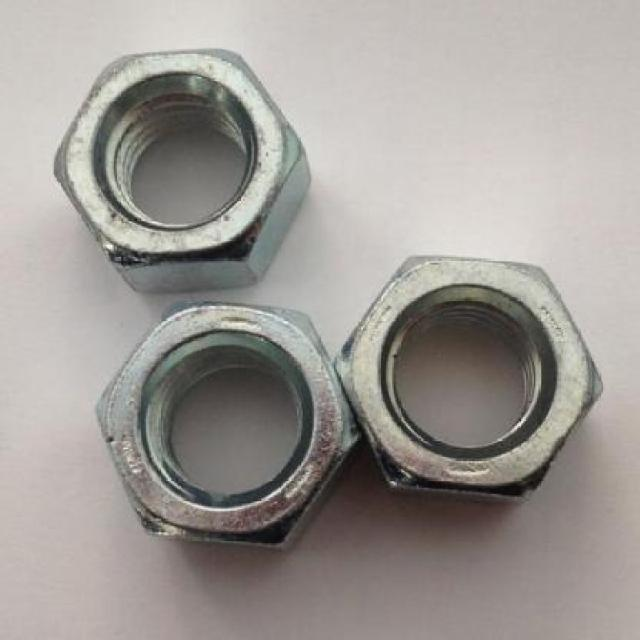Nut: (334, 252, 606, 511), (93, 296, 363, 556), (50, 46, 311, 294)
